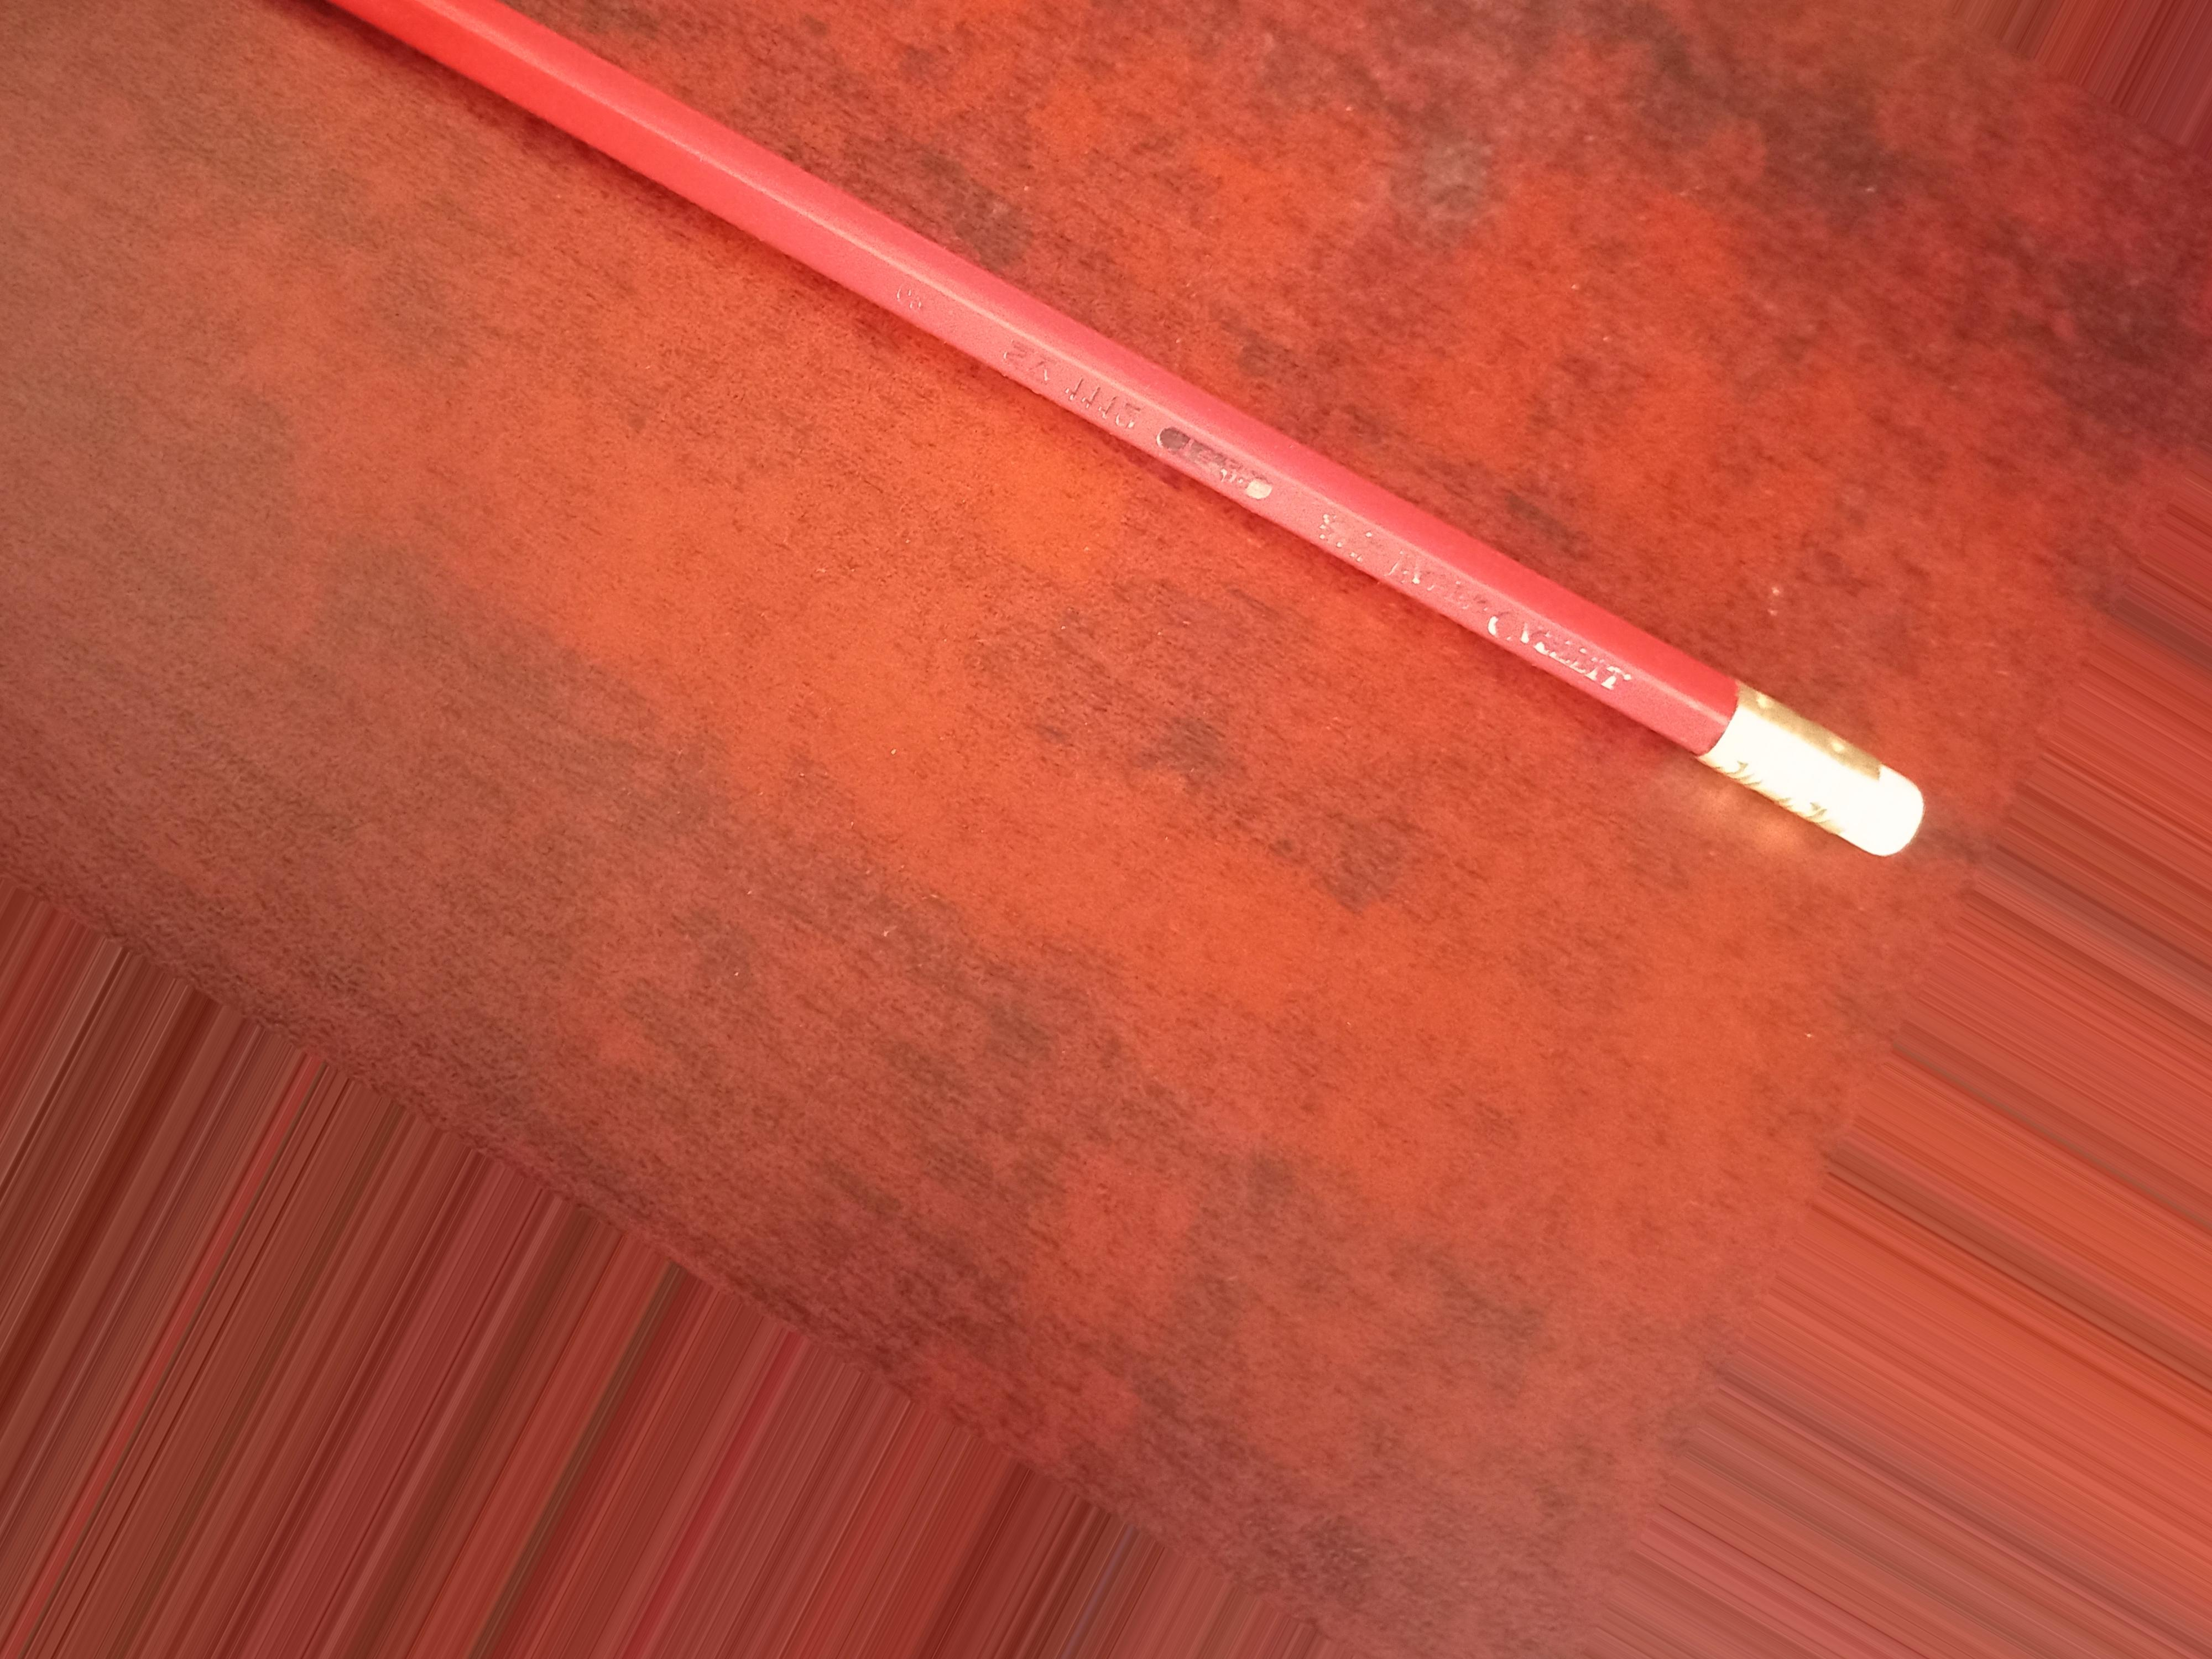pencil: (867, 127, 1942, 894)
